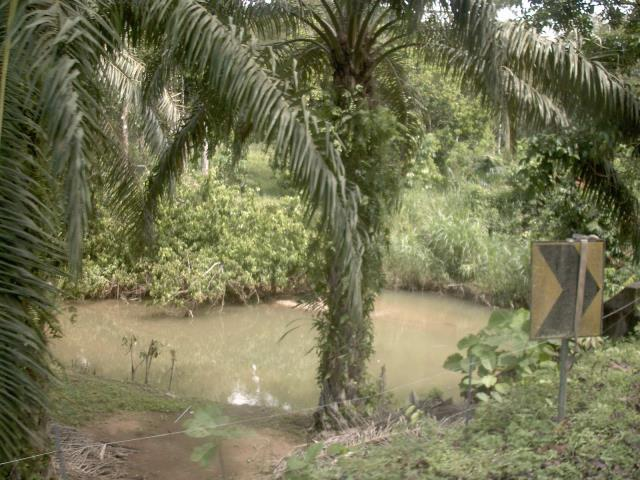traffic_sign: (512, 223, 616, 362)
